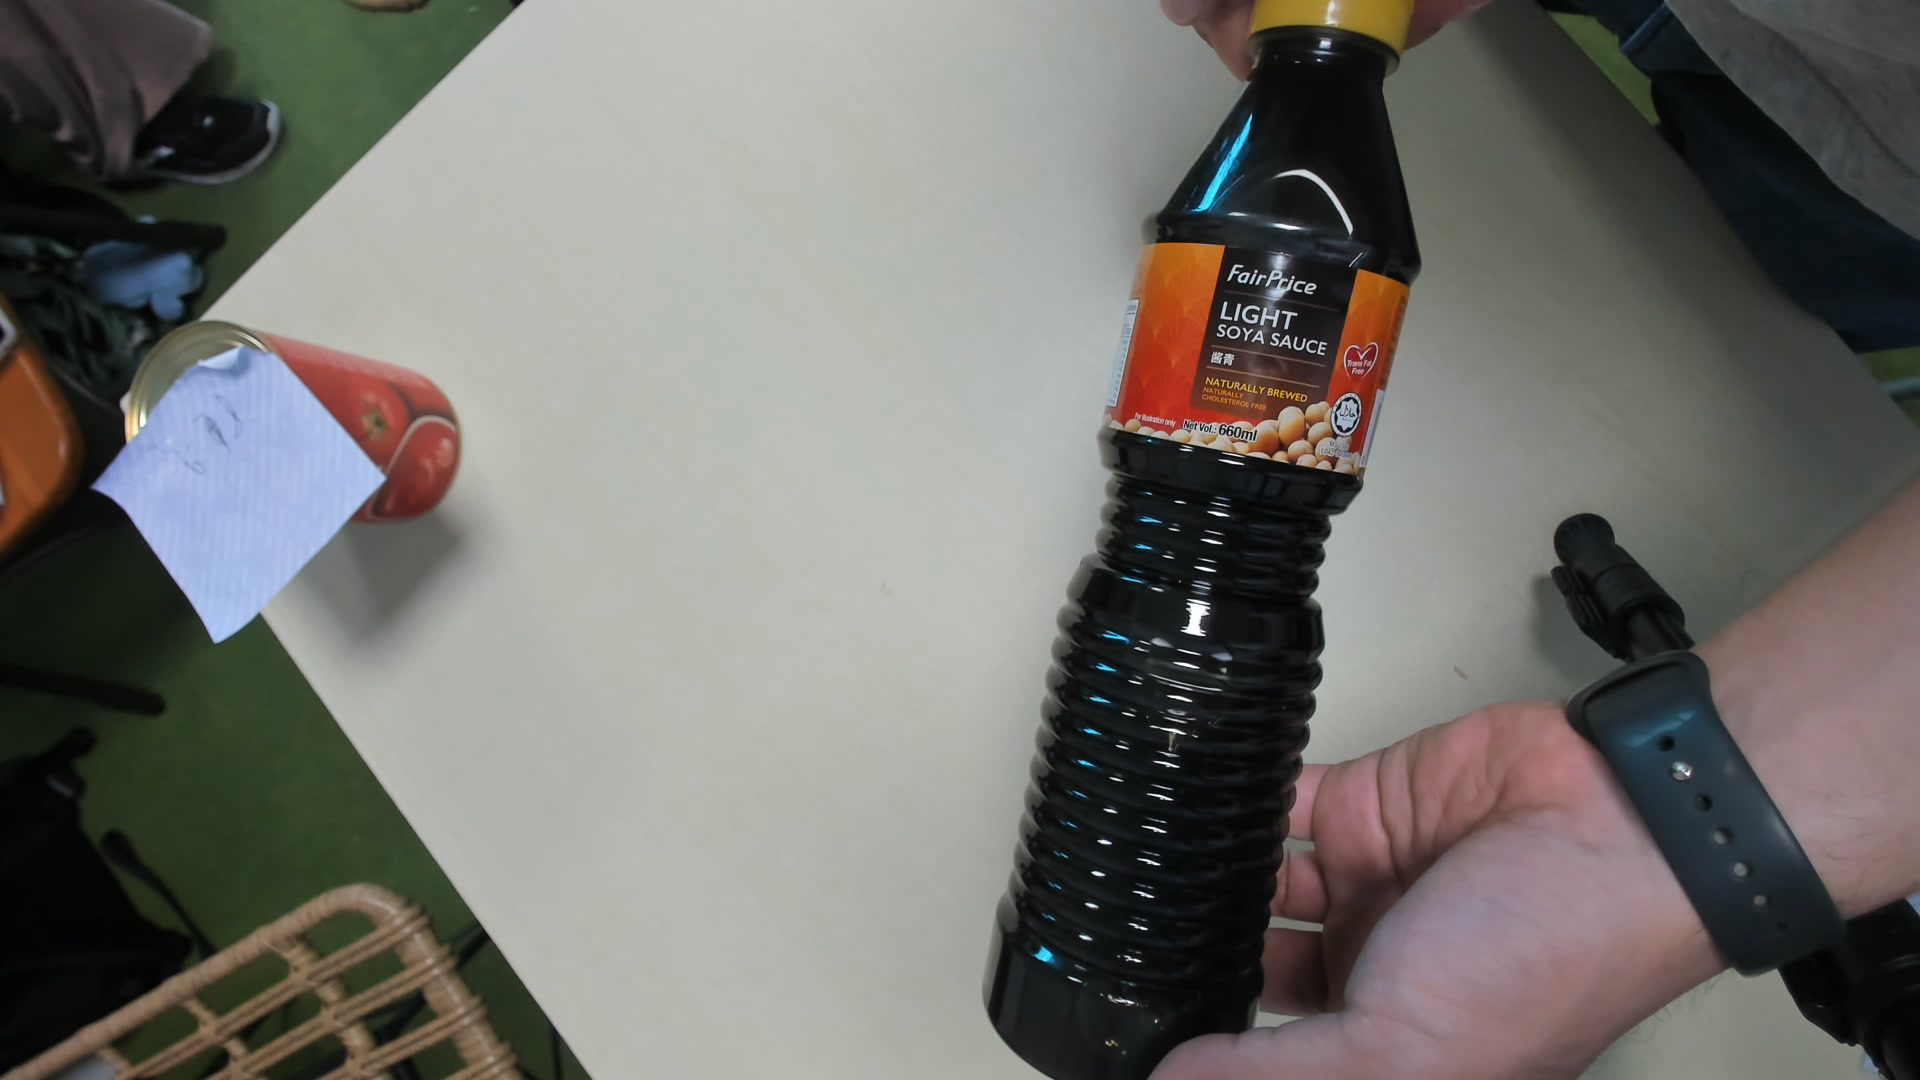OtherSauceDressingSoupbasePaste_600-699g_Halal_NonHealthy: (1000, 5, 1411, 1080)
